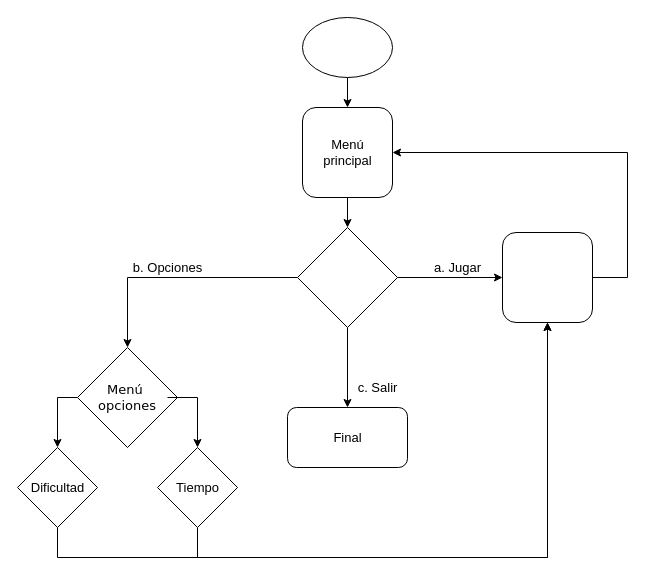
This 653x583 diagram has some shape labels left out. Here are the shapes that lost their labels. From the top down, the centre of each, then its label:
[347,47]: Inicio
[347,277]: ¿Qué desea hacer?
[547,277]: Juego
